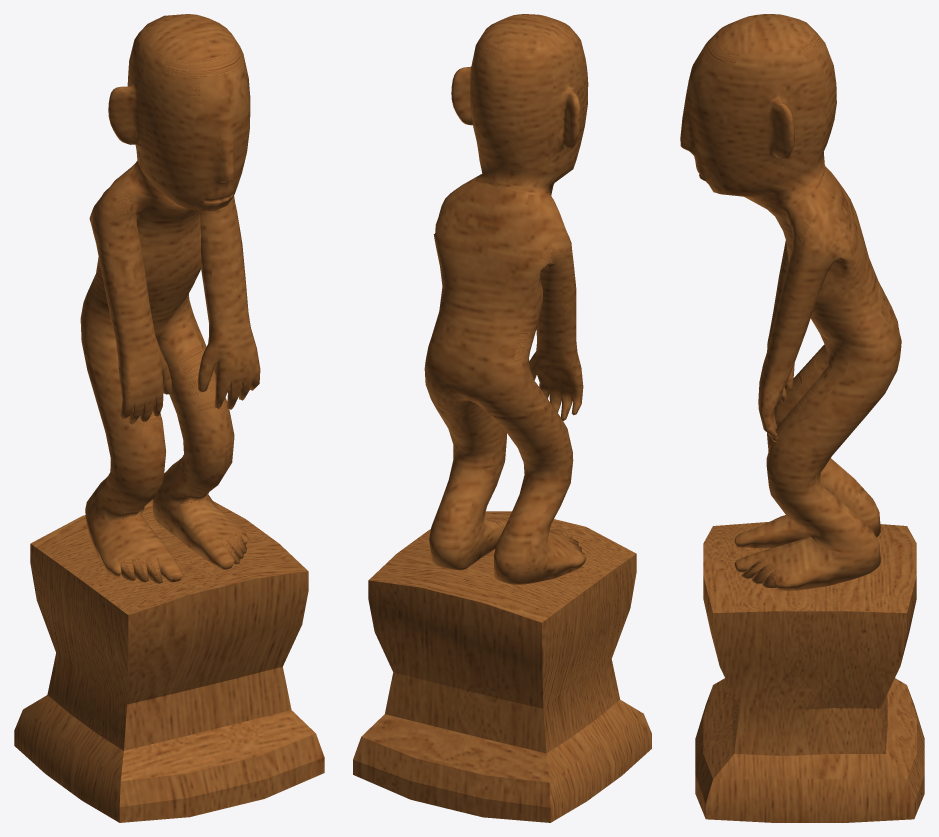
Rendered from Bulul.glb.
3 views of the same model, side by side, from view 1: azimuth 30°, elevation 25°; view 2: azimuth 150°, elevation 25°; view 3: azimuth 270°, elevation 25° (orthographic). The views are drawn at different scales.
Visible parts, largest first — view 1: pCube4.002; view 2: pCube4.002; view 3: pCube4.002.
Part boxes in pixels (x1,y1,x2,y2): pCube4.002: (14, 14, 324, 822); pCube4.002: (353, 14, 651, 822); pCube4.002: (680, 14, 924, 822).
Size of the model in its own units: 0.9924 by 3.4 by 1.
1 material, 1 textured.
